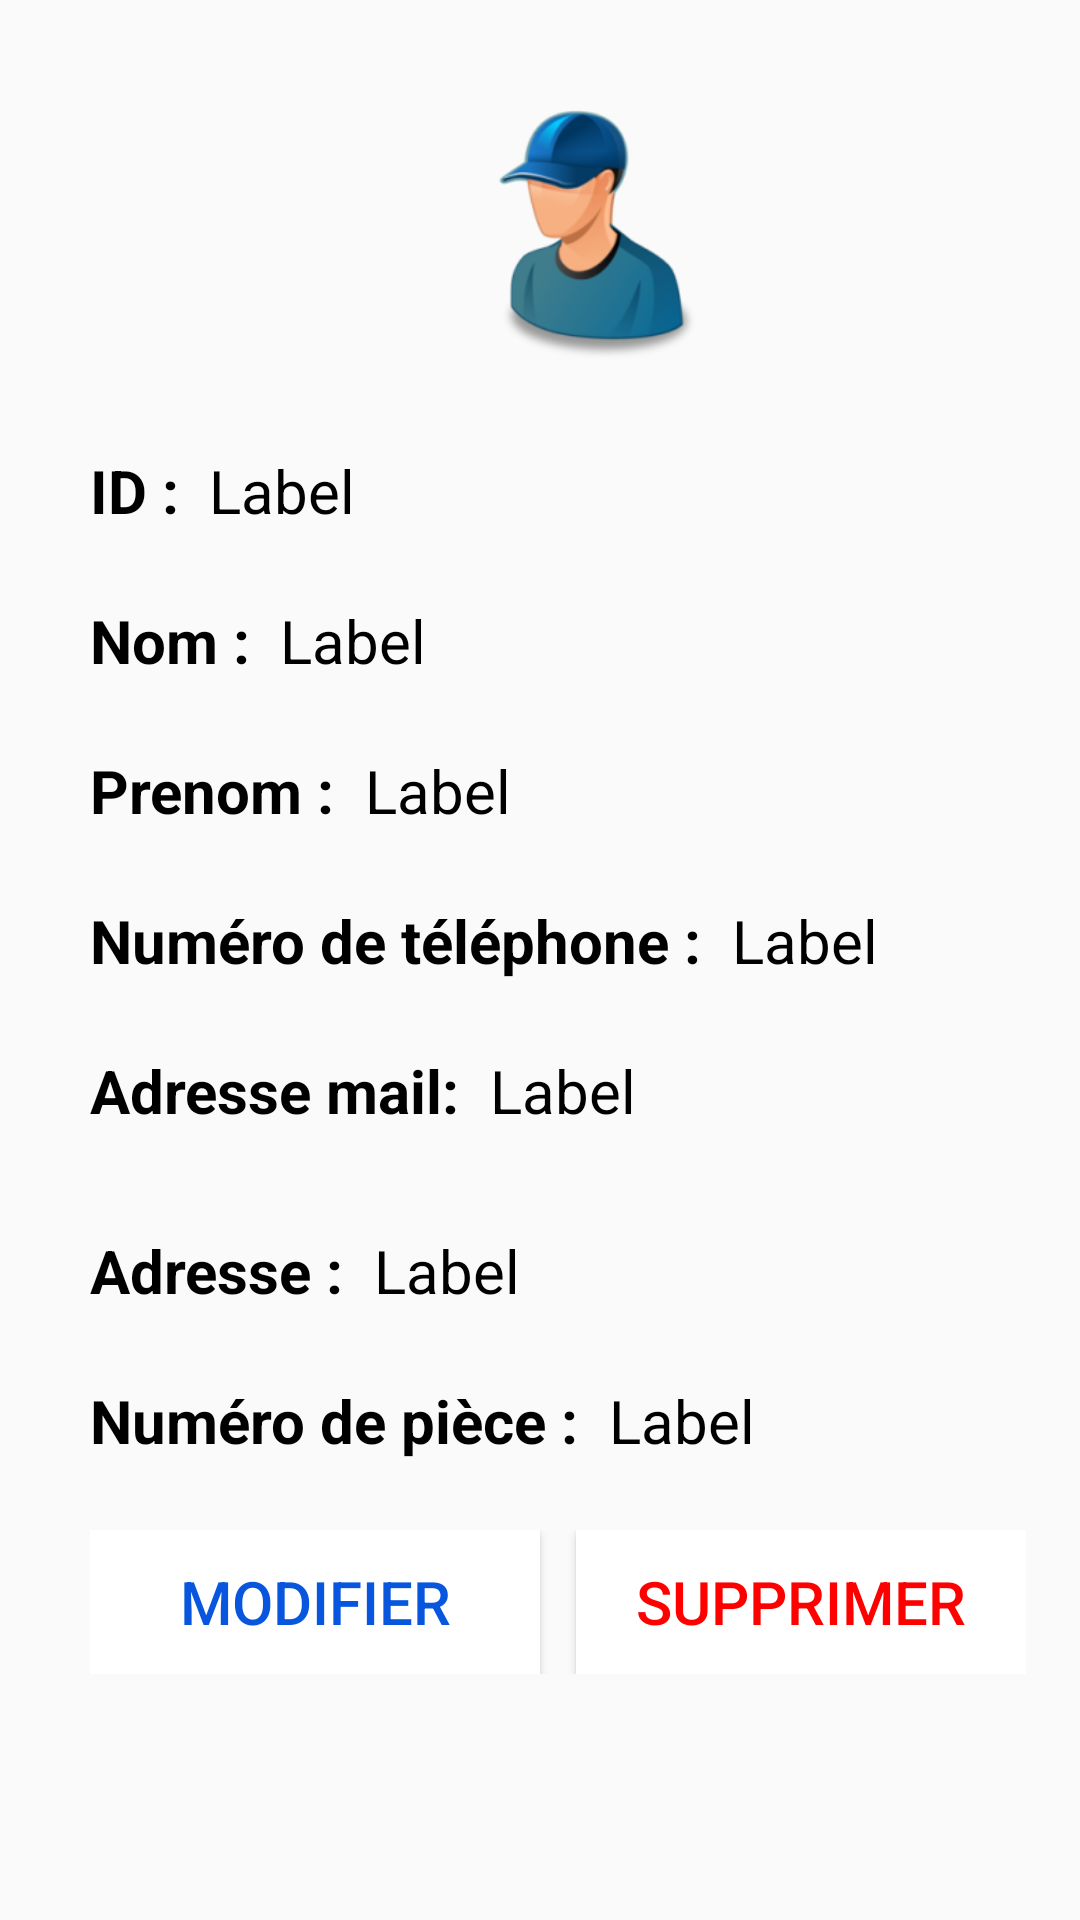

Icons on this 1080x1920 Android screen, each with its box as region(x1, y1, x2, y2):
provider: region(499, 111, 689, 353)
